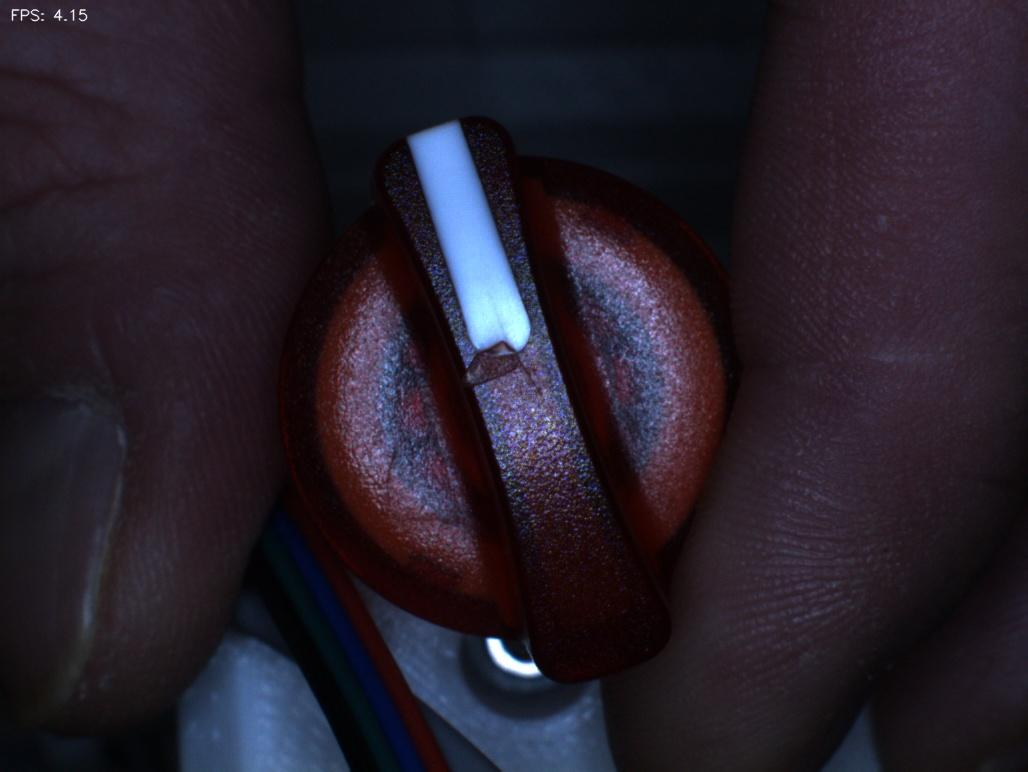Choc: (434, 318, 536, 414)
